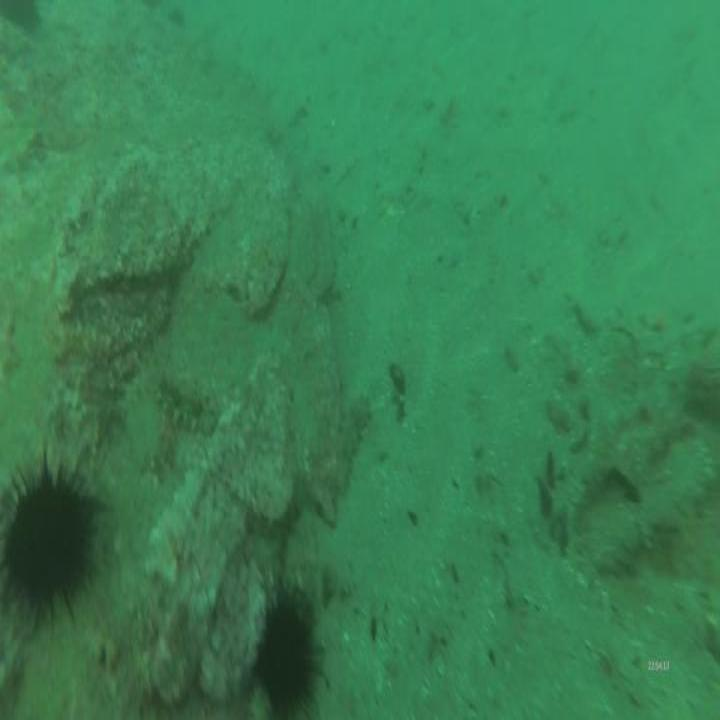echinus: (5, 476, 97, 604), (257, 594, 314, 716)
holothurian: (332, 395, 371, 492), (158, 378, 219, 434), (48, 318, 116, 366)
